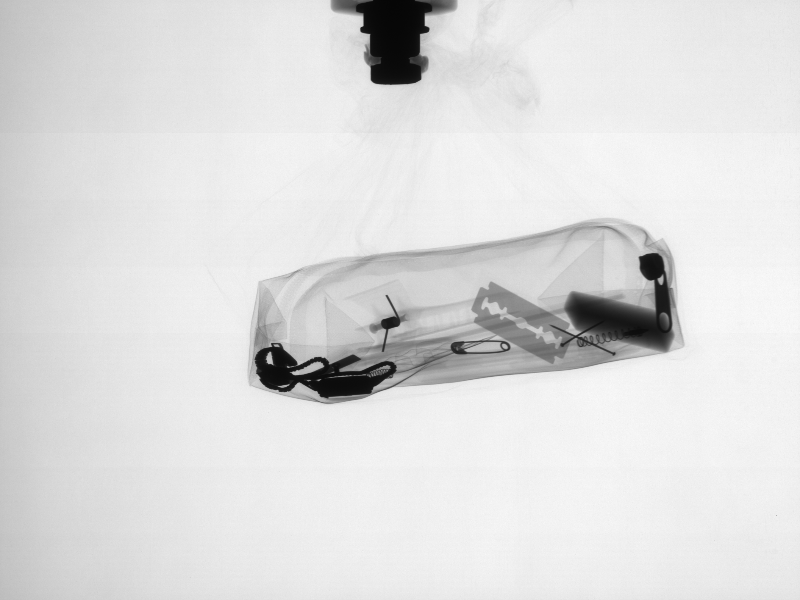bobby pin: (446, 338, 514, 354)
needle: (545, 318, 616, 357)
rasor blade: (473, 281, 573, 359)
rope: (255, 338, 398, 399)
string: (574, 335, 651, 347)
